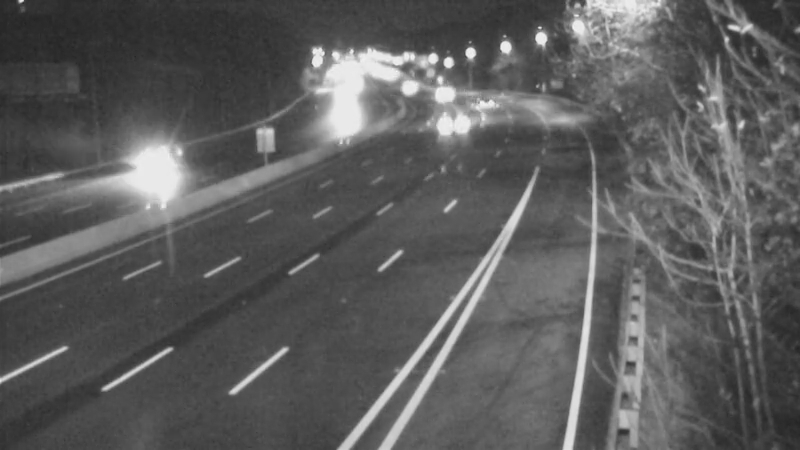vehicle: (112, 134, 192, 214), (463, 83, 513, 133), (425, 96, 475, 146)
